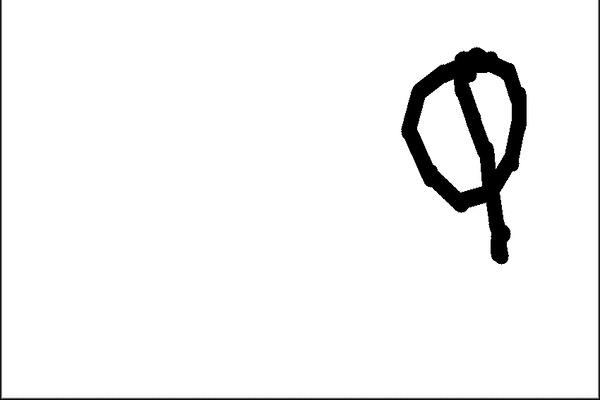Q: (385, 40, 541, 270)
